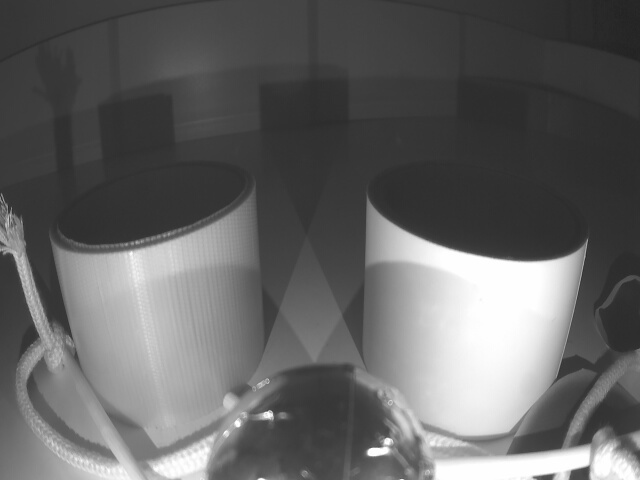Live: (208, 360, 427, 480)
Point: (474, 68, 640, 148)
